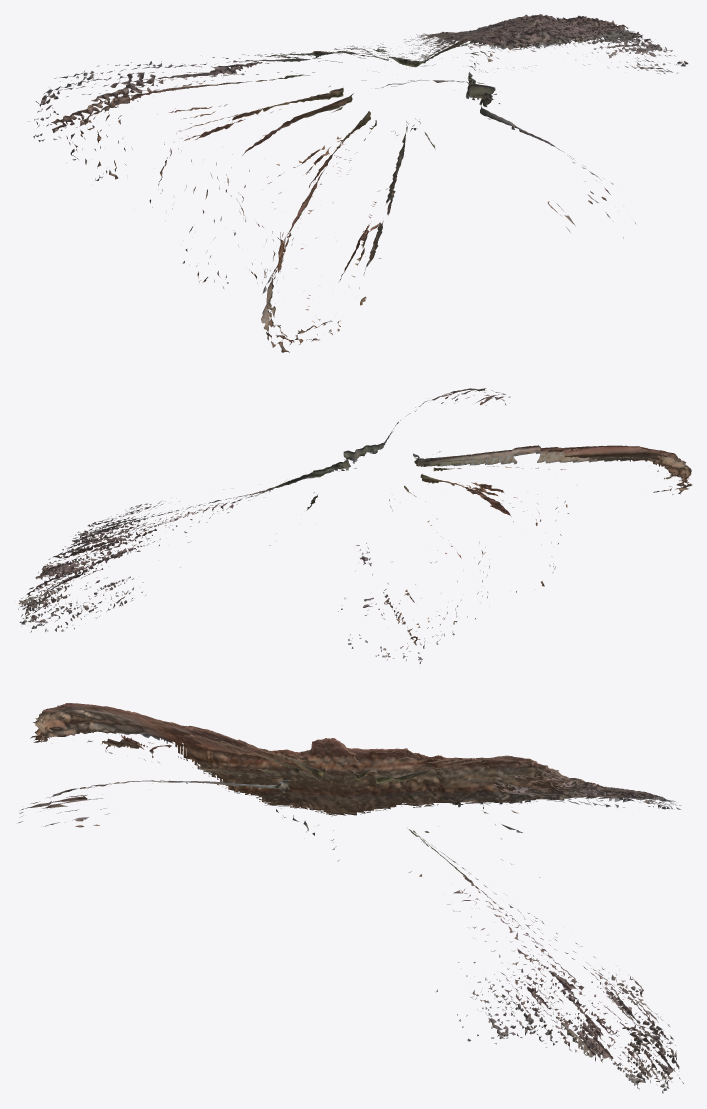
The model's file is world-1770305776703.glb.
3 renders of one model, top to bottom at view 1: azimuth 30°, elevation 25°; view 2: azimuth 150°, elevation 25°; view 3: azimuth 270°, elevation 25°, orthographic. The views are drawn at different scales.
Visible parts, largest first — view 1: world; view 2: world; view 3: world.
Boxes of the visible parts, bbox=[...] form: world: bbox=[28, 14, 688, 352]; world: bbox=[18, 388, 692, 663]; world: bbox=[18, 703, 683, 1093].
Bounding box in the file's own units: 120 × 32.36 × 121.
